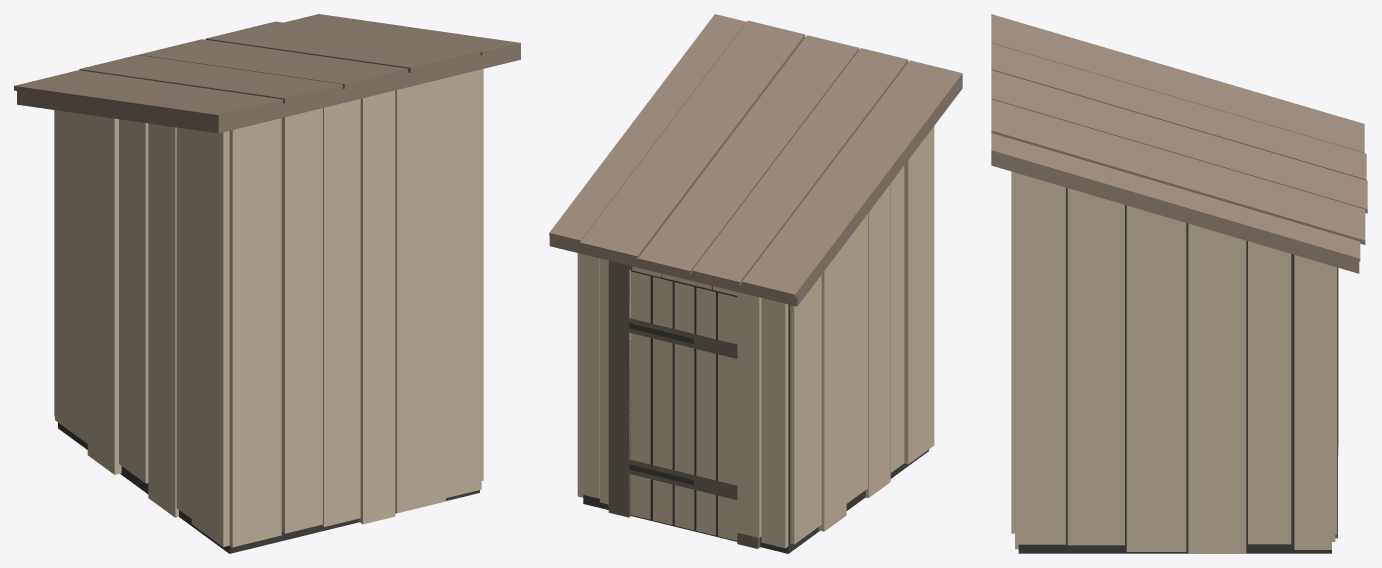
The model's file is recon_1835_blk_indiana_north_wolcott_a3_04__inferred_1835.glb.
The picture shows the model from 3 angles, left to right: view 1: azimuth 30°, elevation 25°; view 2: azimuth 150°, elevation 25°; view 3: azimuth 270°, elevation 25°; orthographic projection. The views are drawn at different scales.
Visible parts, largest first — view 1: recon_1835_blk_indiana_north_wolcott_a3_04__inferred_1835; view 2: recon_1835_blk_indiana_north_wolcott_a3_04__inferred_1835; view 3: recon_1835_blk_indiana_north_wolcott_a3_04__inferred_1835.
Boxes of the visible parts, x1=… form: recon_1835_blk_indiana_north_wolcott_a3_04__inferred_1835: x1=14, y1=14, x2=520, y2=553; recon_1835_blk_indiana_north_wolcott_a3_04__inferred_1835: x1=549, y1=14, x2=962, y2=553; recon_1835_blk_indiana_north_wolcott_a3_04__inferred_1835: x1=991, y1=14, x2=1367, y2=553.
Bounding box in the file's own units: 1.96 × 2.84 × 2.32.
